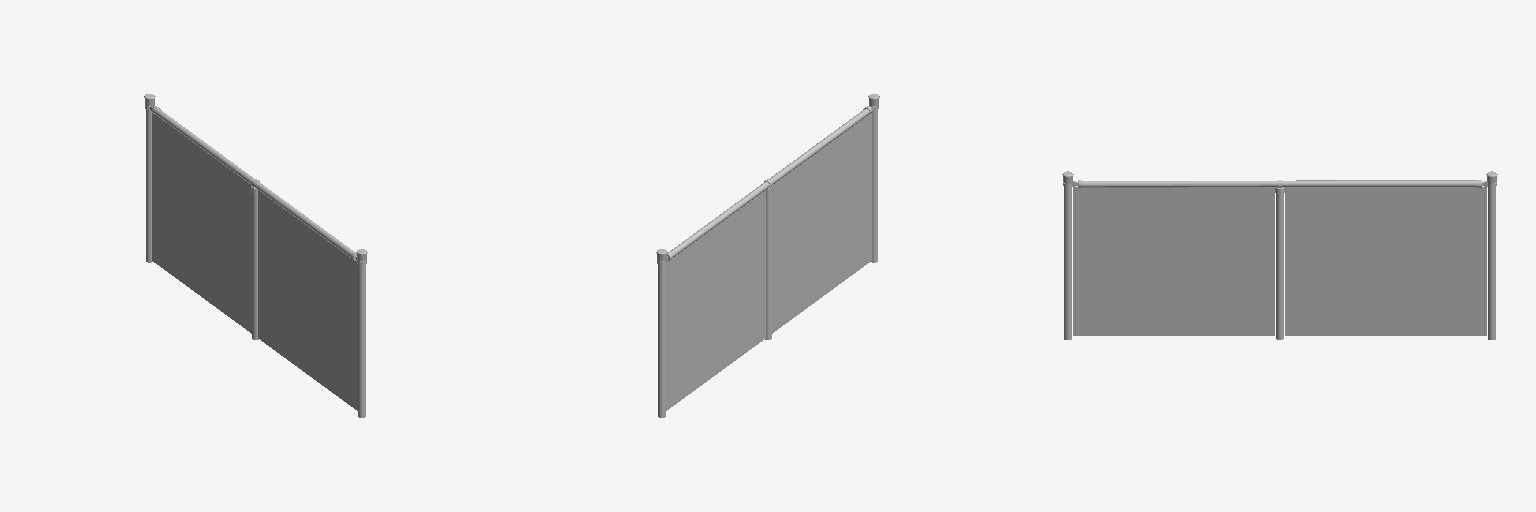
File: Staket2 (1).obj
The picture shows the model from 3 angles: view 1: azimuth 30°, elevation 25°; view 2: azimuth 150°, elevation 25°; view 3: azimuth 270°, elevation 25°; orthographic projection.
Parts seen in each view (by area): view 1: pPlane1, pPlane3, pPlane4, pPlane2, pCylinder7, pCylinder1, pCylinder5, pCylinder3; view 2: pPlane3, pPlane1, pPlane2, pPlane4, pCylinder7, pCylinder5, pCylinder1, pCylinder3; view 3: pPlane3, pPlane1, pPlane2, pPlane4, pCylinder7, pCylinder1, pCylinder5, pCylinder3.
Boxes of the visible parts, x1,y1,x2,y2 form: pPlane1: [258, 190, 357, 410]; pPlane3: [152, 116, 251, 333]; pPlane4: [152, 113, 251, 331]; pPlane2: [258, 191, 357, 409]; pCylinder7: [154, 108, 354, 257]; pCylinder1: [358, 261, 365, 417]; pCylinder5: [146, 106, 152, 262]; pCylinder3: [252, 193, 258, 339]; pPlane3: [666, 190, 765, 409]; pPlane1: [772, 113, 871, 333]; pPlane2: [772, 114, 871, 331]; pPlane4: [666, 191, 765, 410]; pCylinder7: [670, 109, 869, 256]; pCylinder5: [658, 261, 665, 417]; pCylinder1: [871, 106, 877, 262]; pCylinder3: [765, 193, 771, 339]; pPlane3: [1285, 187, 1486, 335]; pPlane1: [1073, 187, 1274, 335]; pPlane2: [1073, 187, 1274, 335]; pPlane4: [1285, 187, 1486, 335]; pCylinder7: [1082, 180, 1476, 187]; pCylinder1: [1064, 187, 1071, 339]; pCylinder5: [1488, 187, 1495, 339]; pCylinder3: [1276, 193, 1283, 339].
Size of the model in its own units: 0.6589 by 10.78 by 25.75.